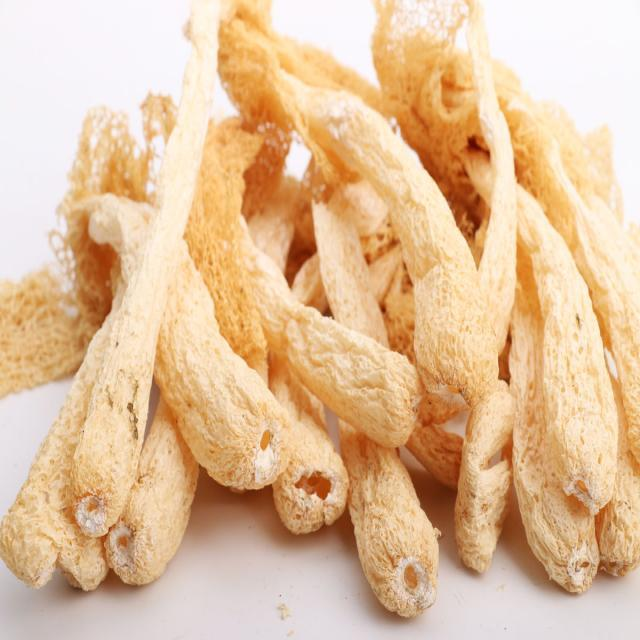Dictyophora indusiate: (371, 5, 619, 511), (215, 4, 480, 394), (57, 111, 292, 486), (66, 13, 215, 533)
